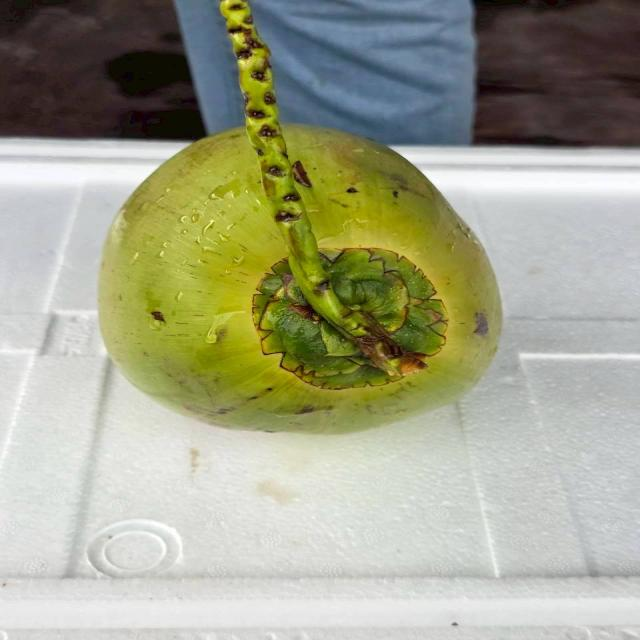coco_2.0: (208, 224, 488, 412)
